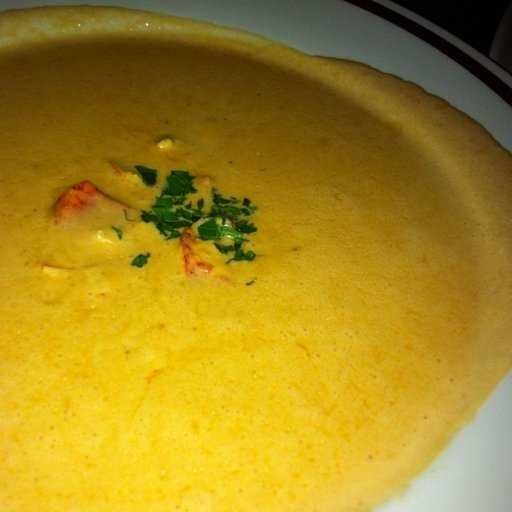soup: (5, 20, 467, 508)
